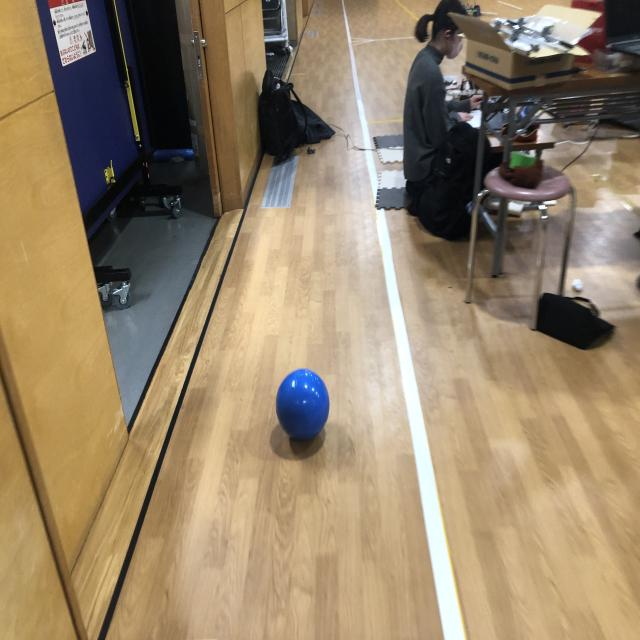blue_ball: (276, 368, 330, 438)
